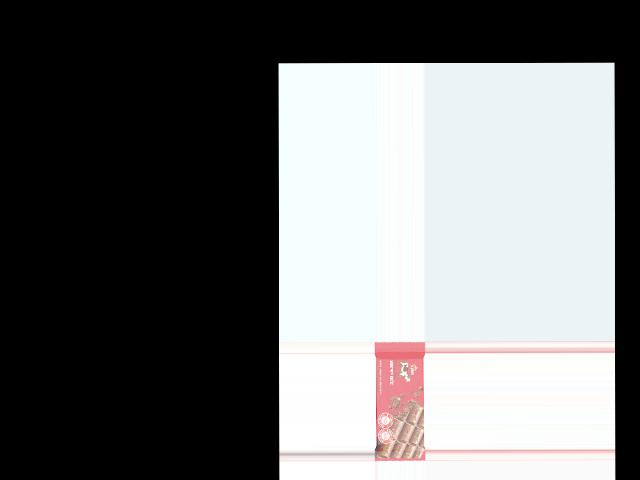chocolate: (373, 343, 424, 460)
